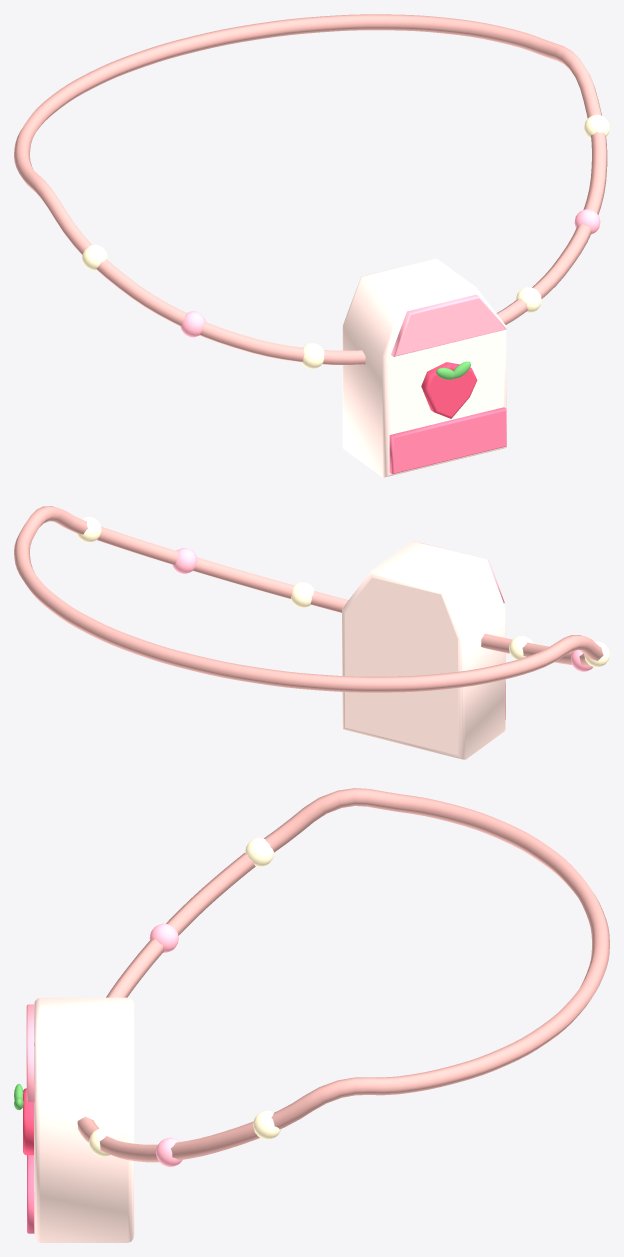
Rendered from milk_charm.glb.
The picture shows the model from 3 angles, top to bottom: view 1: azimuth 30°, elevation 25°; view 2: azimuth 150°, elevation 25°; view 3: azimuth 270°, elevation 25°; orthographic projection. The views are drawn at different scales.
Parts seen in each view (by area): view 1: Strawberry Milk Charm; view 2: Strawberry Milk Charm; view 3: Strawberry Milk Charm.
Part boxes in pixels (x1,y1,x2,y2): Strawberry Milk Charm: [14, 14, 609, 477]; Strawberry Milk Charm: [14, 506, 609, 759]; Strawberry Milk Charm: [14, 788, 609, 1242].
Size of the model in its own units: 1 by 0.4303 by 0.8469.
